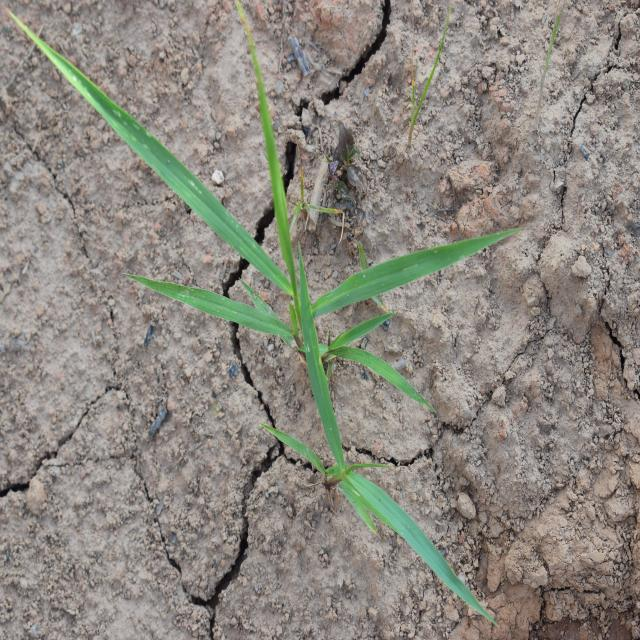green_foxtail: (76, 56, 441, 403), (250, 345, 447, 594)
